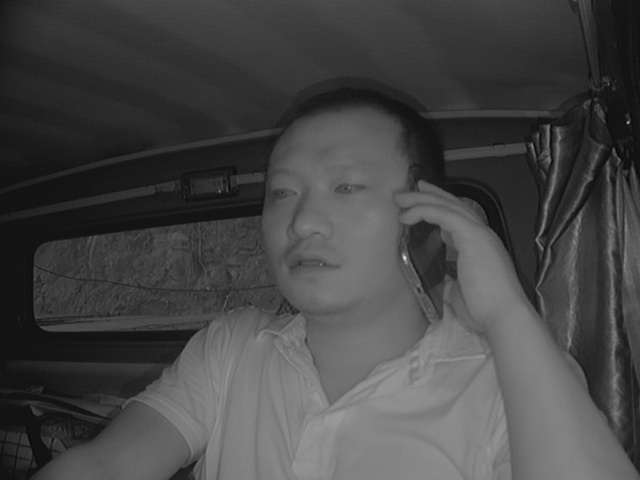hand: (396, 179, 504, 331)
